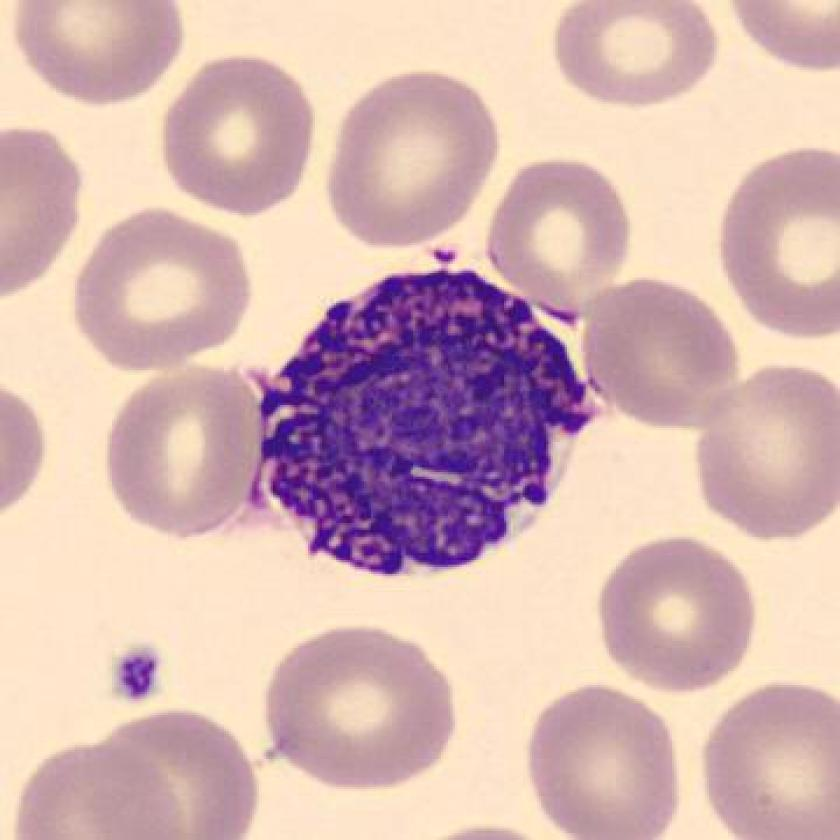basophil: (246, 253, 603, 584)
